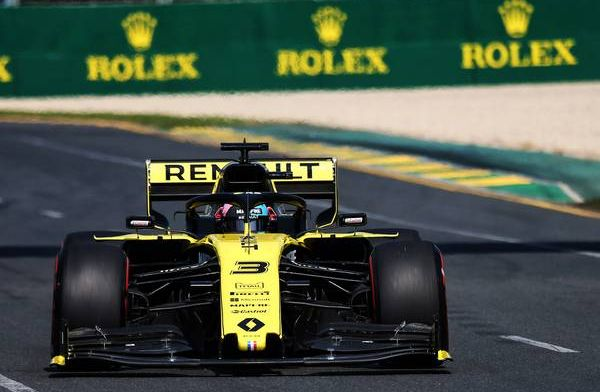f1_car: (39, 134, 457, 383)
